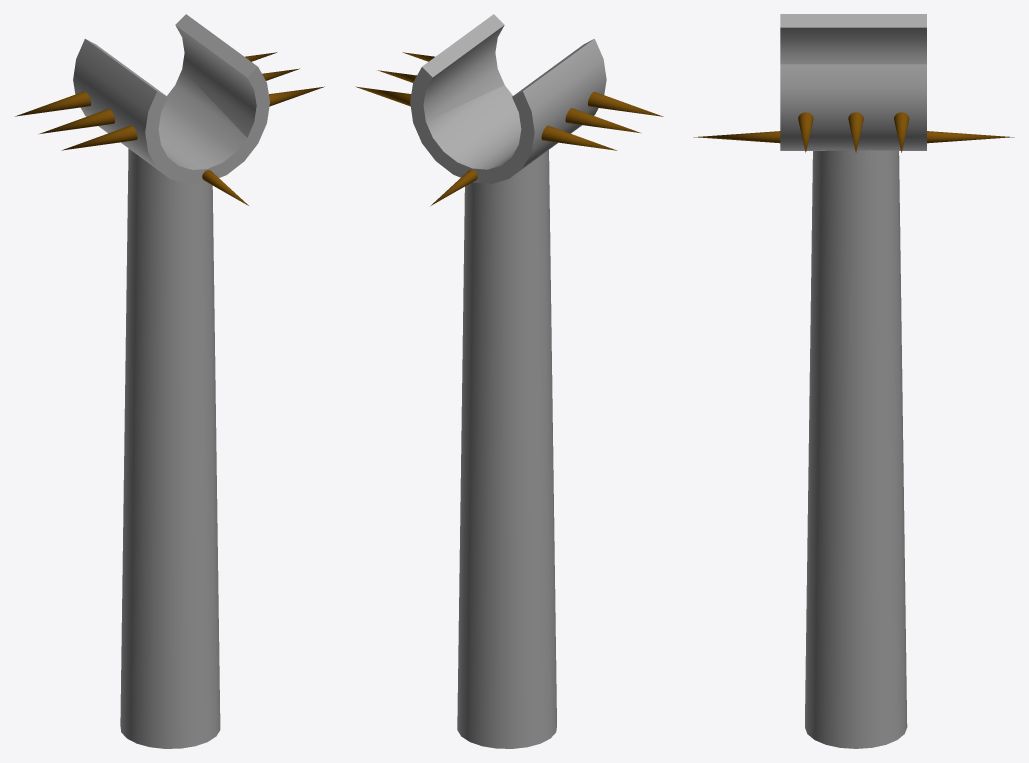
The model's file is RoboArmWeapon.fbx.
3 views of the same model, side by side, from view 1: azimuth 30°, elevation 25°; view 2: azimuth 150°, elevation 25°; view 3: azimuth 270°, elevation 25° (orthographic). The views are drawn at different scales.
Visible parts, largest first — view 1: pCylinder5; view 2: pCylinder5; view 3: pCylinder5.
Part boxes in pixels (<box>): pCylinder5: <box>15,14,324,748</box>; pCylinder5: <box>355,14,663,748</box>; pCylinder5: <box>693,14,1014,748</box>.
Bounding box in the file's own units: 6.08 × 14.83 × 6.28.
